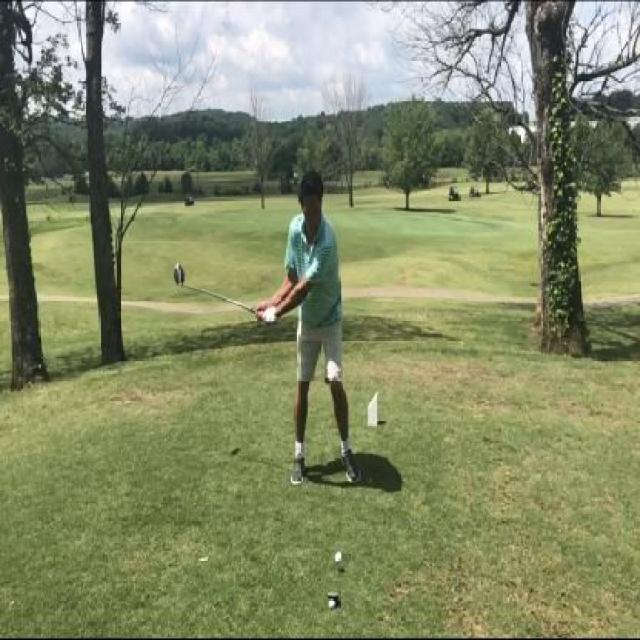club head: (172, 262, 192, 290)
